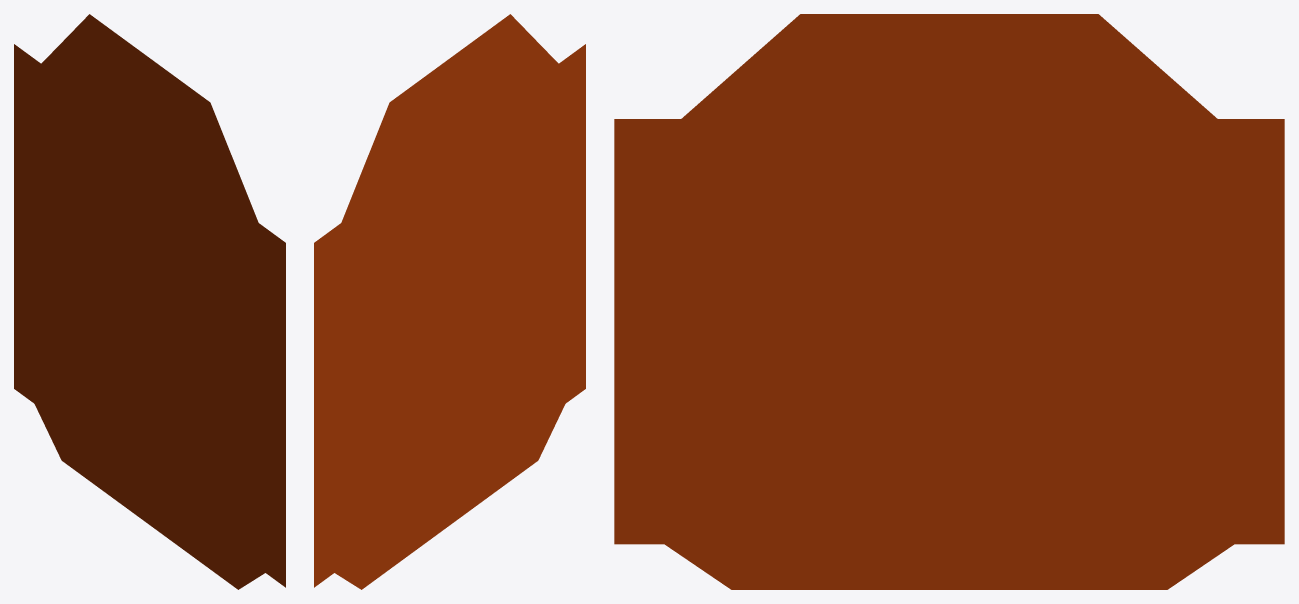
File: way cap.FBX
3 views of the same model, side by side, from view 1: azimuth 30°, elevation 25°; view 2: azimuth 150°, elevation 25°; view 3: azimuth 270°, elevation 25° (orthographic). The views are drawn at different scales.
Visible parts, largest first — view 1: Object1221434; view 2: Object1221434; view 3: Object1221434.
Part boxes in pixels (x1,y1,x2,y2): Object1221434: (14,14,285,589); Object1221434: (314,14,585,589); Object1221434: (614,14,1284,589).
Bounding box in the file's own units: 1.04e-05 × 3.79 × 4.
